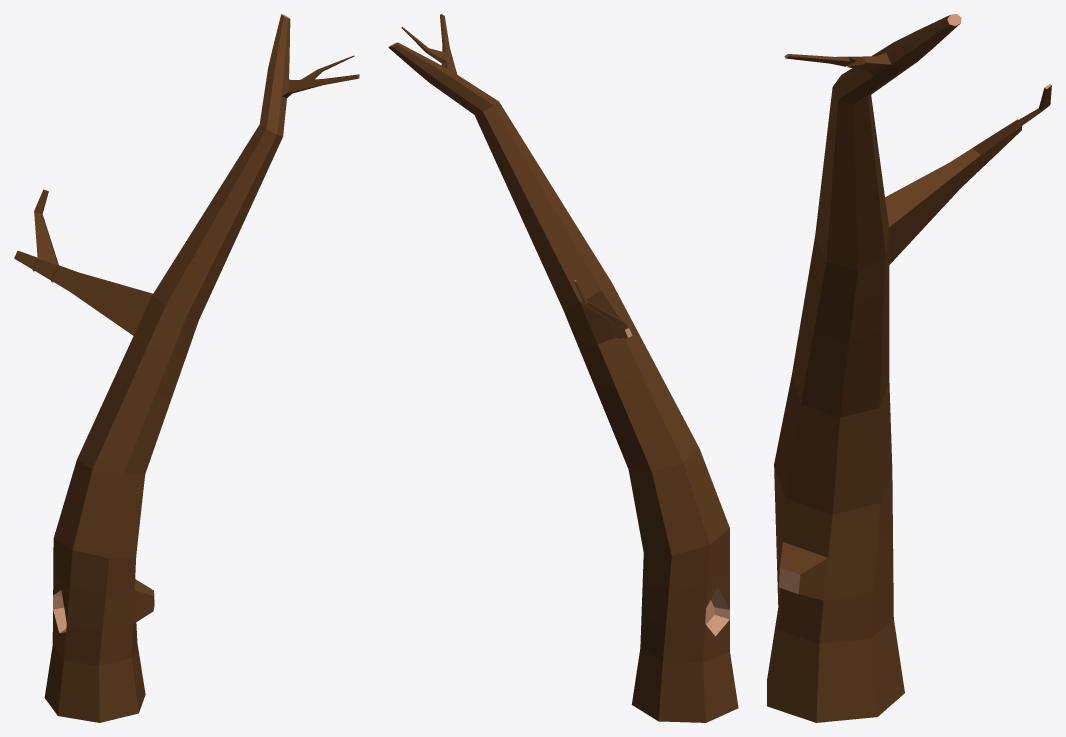
File: DeadTree2.fbx
3 views of the same model, side by side, from view 1: azimuth 30°, elevation 25°; view 2: azimuth 150°, elevation 25°; view 3: azimuth 270°, elevation 25° (orthographic). The views are drawn at different scales.
Parts seen in each view (by area): view 1: Dead tree 2; view 2: Dead tree 2; view 3: Dead tree 2.
Part boxes in pixels (x1,y1,x2,y2): Dead tree 2: (14,14,359,722); Dead tree 2: (388,14,738,722); Dead tree 2: (767,14,1051,722).
Size of the model in its own units: 465 by 864 by 267.
